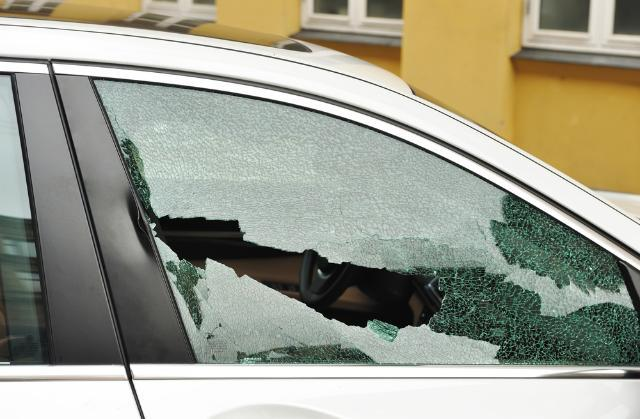glass shatter: (93, 78, 640, 366)
